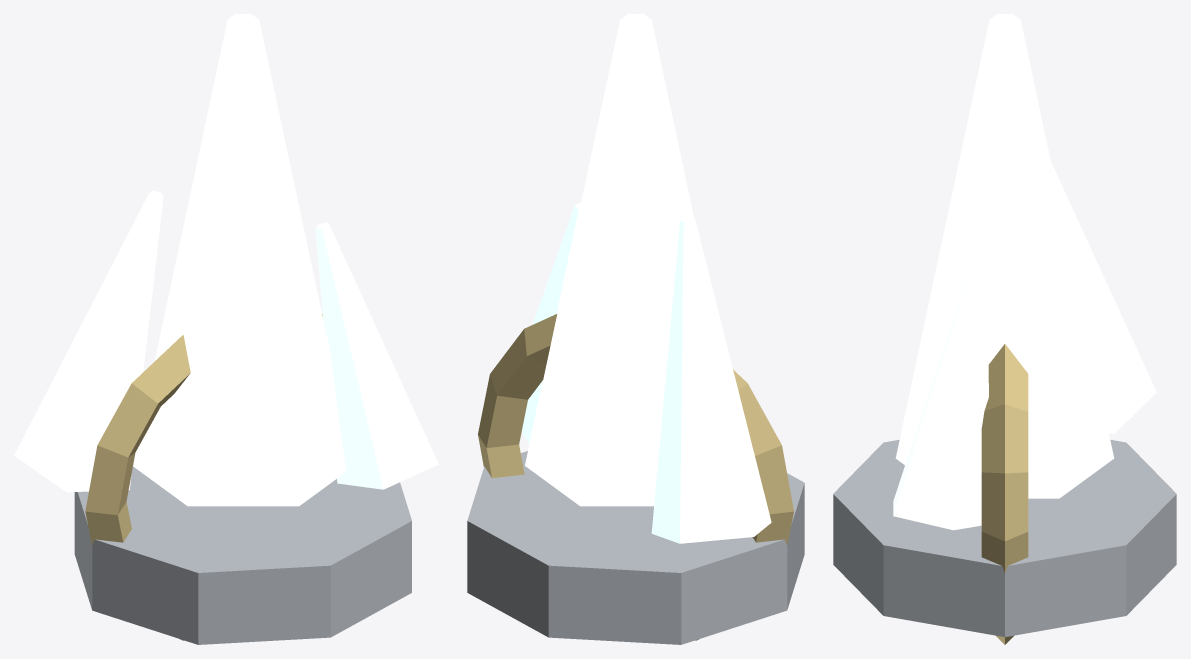
Rendered from turret_crystal.glb.
3 renders of one model, left to right at view 1: azimuth 30°, elevation 25°; view 2: azimuth 150°, elevation 25°; view 3: azimuth 270°, elevation 25°, orthographic.
Parts seen in each view (by area): view 1: turret_crystal; view 2: turret_crystal; view 3: turret_crystal.
Part boxes in pixels (bbox=[...]): turret_crystal: bbox=[14, 14, 438, 644]; turret_crystal: bbox=[467, 14, 804, 644]; turret_crystal: bbox=[833, 14, 1176, 644].
Size of the model in its own units: 0.4828 by 0.86 by 0.44.
